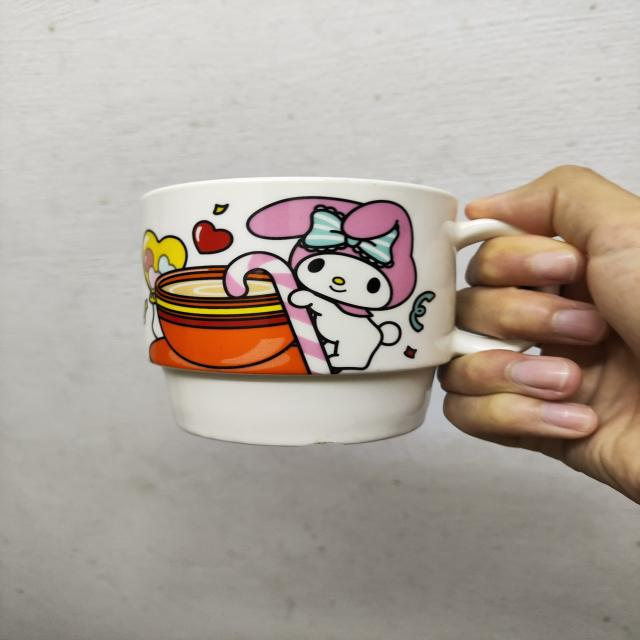cup: (129, 168, 577, 464)
